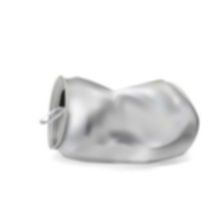can: (32, 69, 203, 169)
